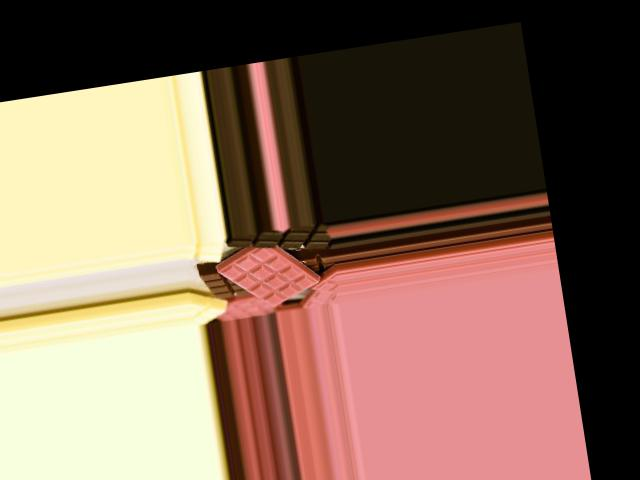chocolate: (213, 223, 324, 316)
